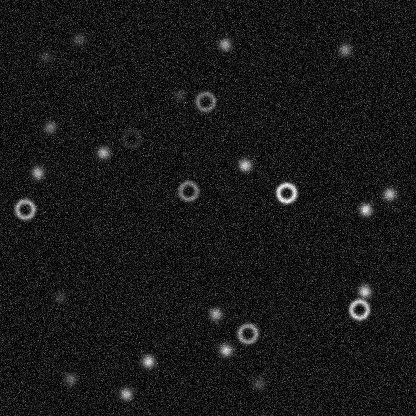Ring: (176, 178, 200, 202), (274, 180, 298, 204), (347, 297, 371, 321), (193, 89, 217, 113), (119, 126, 143, 150), (235, 321, 259, 345), (12, 197, 36, 221)
Spot: (51, 289, 67, 305), (356, 283, 372, 299), (29, 164, 45, 180), (71, 31, 87, 47), (381, 185, 397, 201), (171, 86, 187, 102), (250, 375, 266, 391), (207, 306, 223, 322), (118, 386, 134, 402), (357, 201, 373, 217), (236, 156, 252, 172), (41, 119, 57, 135), (62, 370, 78, 386), (140, 353, 156, 369), (217, 341, 233, 357), (336, 41, 352, 57), (37, 48, 53, 64), (95, 144, 111, 160), (216, 36, 232, 52)
